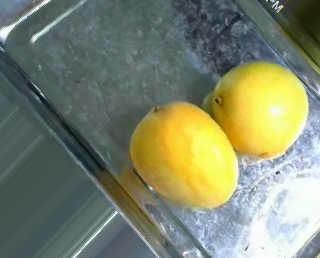Mango: (130, 101, 239, 208), (213, 61, 308, 155)
